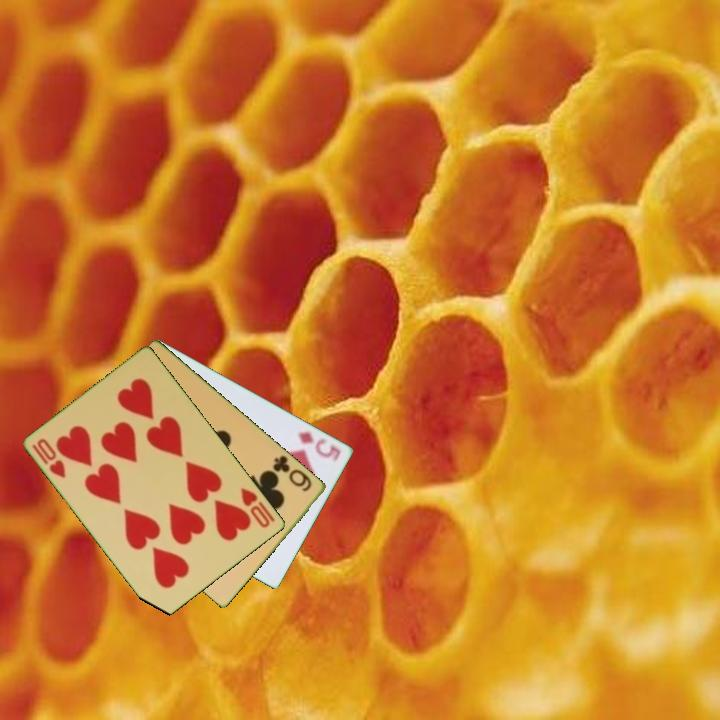10h: (237, 484, 278, 531), (29, 435, 69, 481)
5d: (295, 427, 344, 465)
6c: (269, 452, 315, 494)
